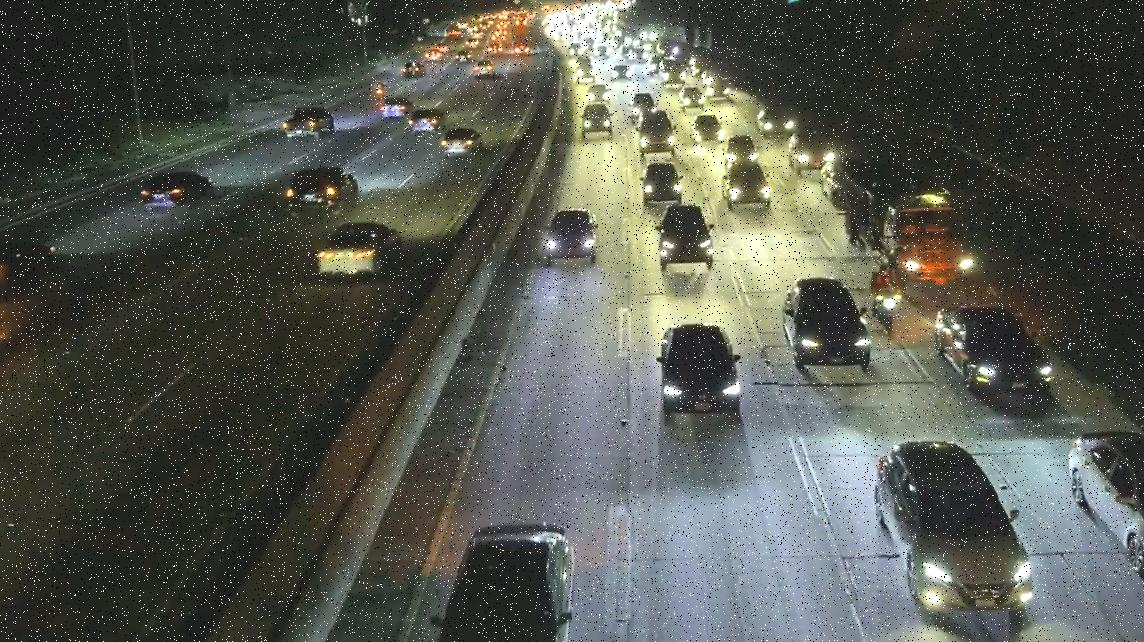bike: (371, 79, 392, 98)
car: (877, 442, 1038, 613), (420, 517, 578, 642), (838, 151, 963, 287), (788, 277, 871, 369), (312, 223, 398, 277), (656, 205, 715, 266), (139, 168, 218, 211), (546, 207, 600, 264), (286, 169, 356, 212), (721, 162, 770, 208), (639, 160, 685, 203), (282, 106, 335, 140), (638, 109, 676, 155), (442, 128, 487, 156), (580, 102, 613, 139), (724, 133, 760, 164), (754, 109, 795, 133), (410, 108, 448, 132)
